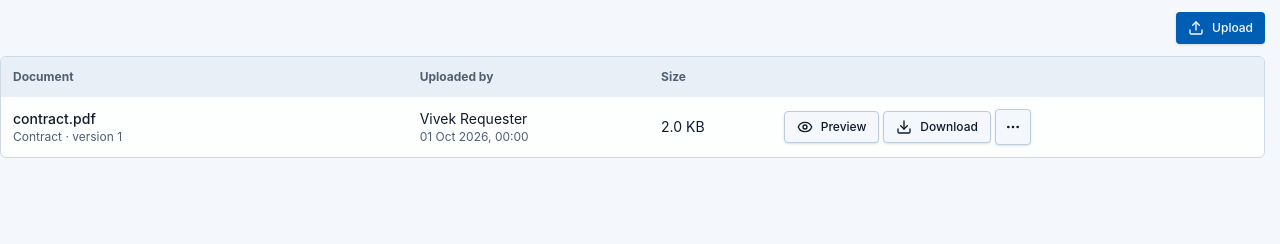
DocumentsTab › does not show Delete for a document uploaded by someone else
The image size is (1280, 244).
Click the button named "more actions".
click(1013, 127)  # box [995, 109, 1031, 145]
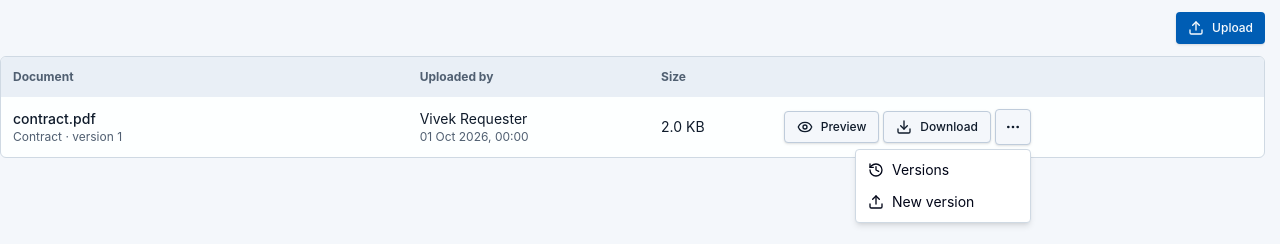
Check: the menu item "Versions" is shown, box [868, 161, 949, 178]
